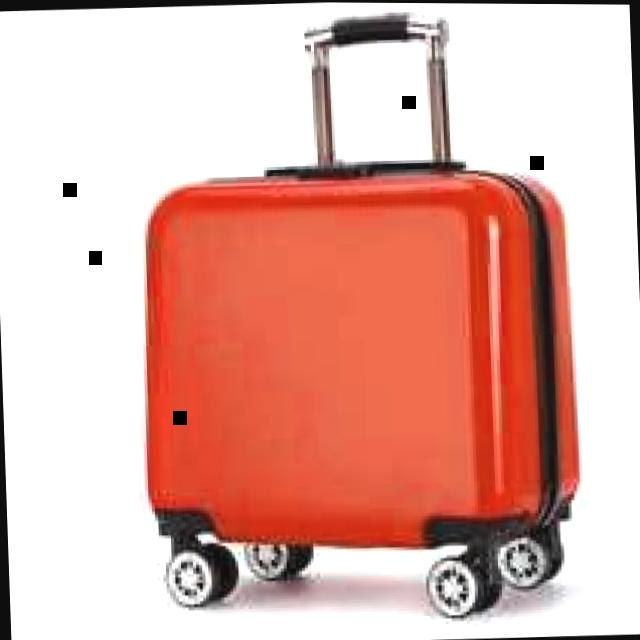luggage: (127, 142, 586, 560)
